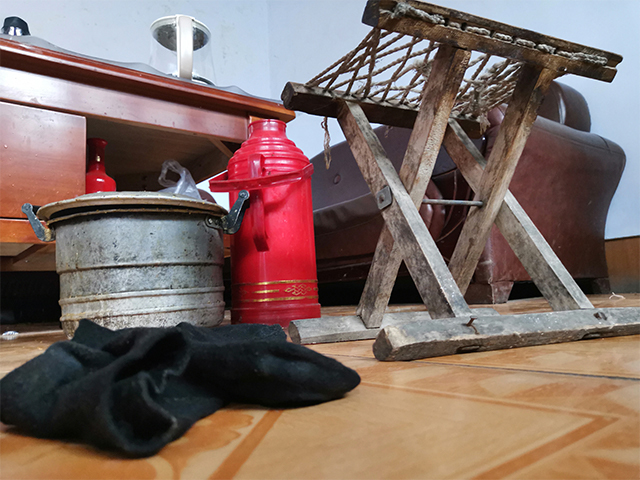socks: (1, 315, 364, 459)
sofa: (309, 80, 632, 306)
stool: (278, 1, 640, 364)
